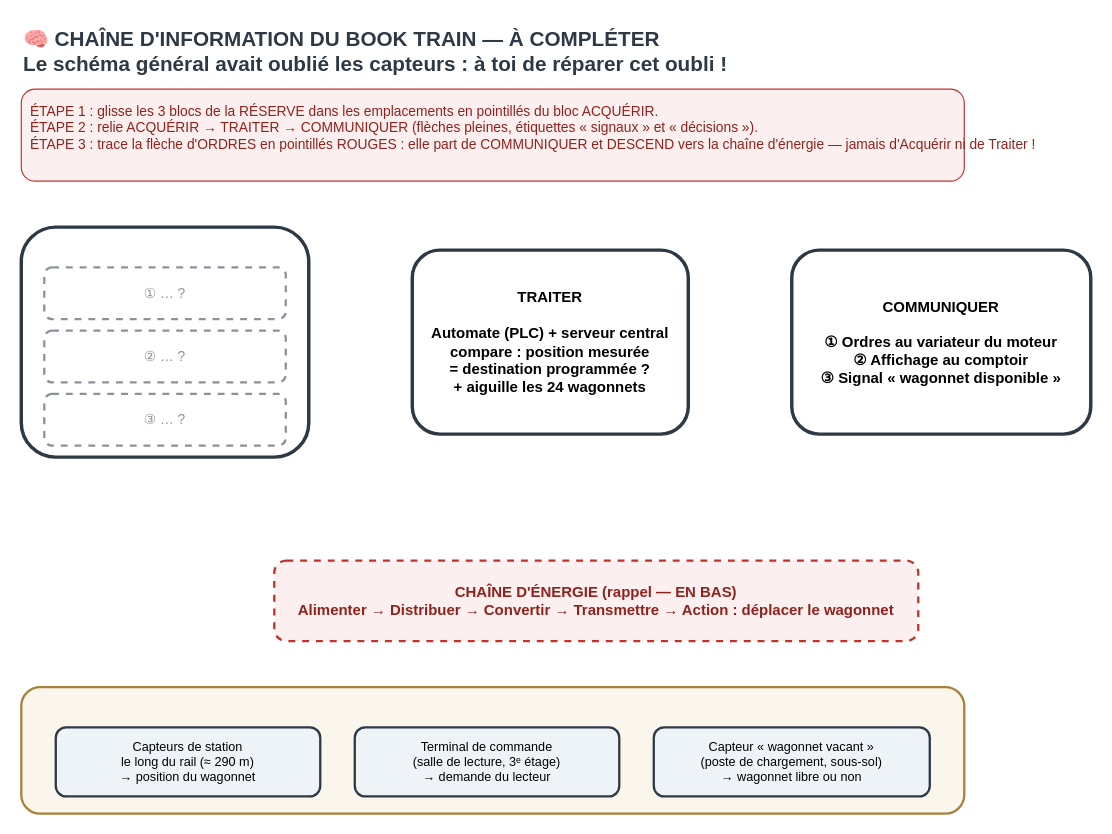
Image size: 1112x834. Some labels were removed from this diagram. Here are the shapes that lost their labels. From the top down, the box of each, then its label:
(19, 225, 310, 458): ACQUÉRIR
(20, 685, 965, 814): 🧰 RÉSERVE DE BLOCS (à glisser dans ACQUÉRIR)
